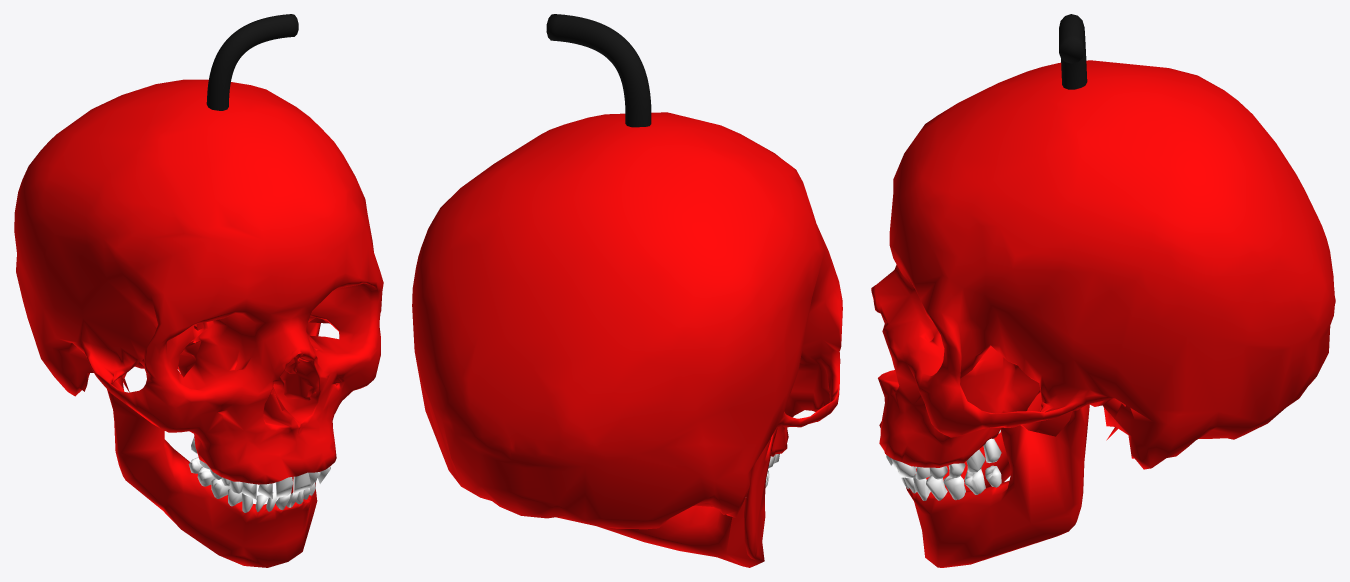
The model's file is Body.FBX.
The picture shows the model from 3 angles, left to right: view 1: azimuth 30°, elevation 25°; view 2: azimuth 150°, elevation 25°; view 3: azimuth 270°, elevation 25°; orthographic projection. The views are drawn at different scales.
Parts seen in each view (by area): view 1: SKULL; view 2: SKULL; view 3: SKULL.
Part boxes in pixels (x1,y1,x2,y2): SKULL: (14,14,383,567); SKULL: (412,14,842,567); SKULL: (871,14,1335,567).
Bounding box in the file's own units: 2.88 × 4.64 × 3.48.
